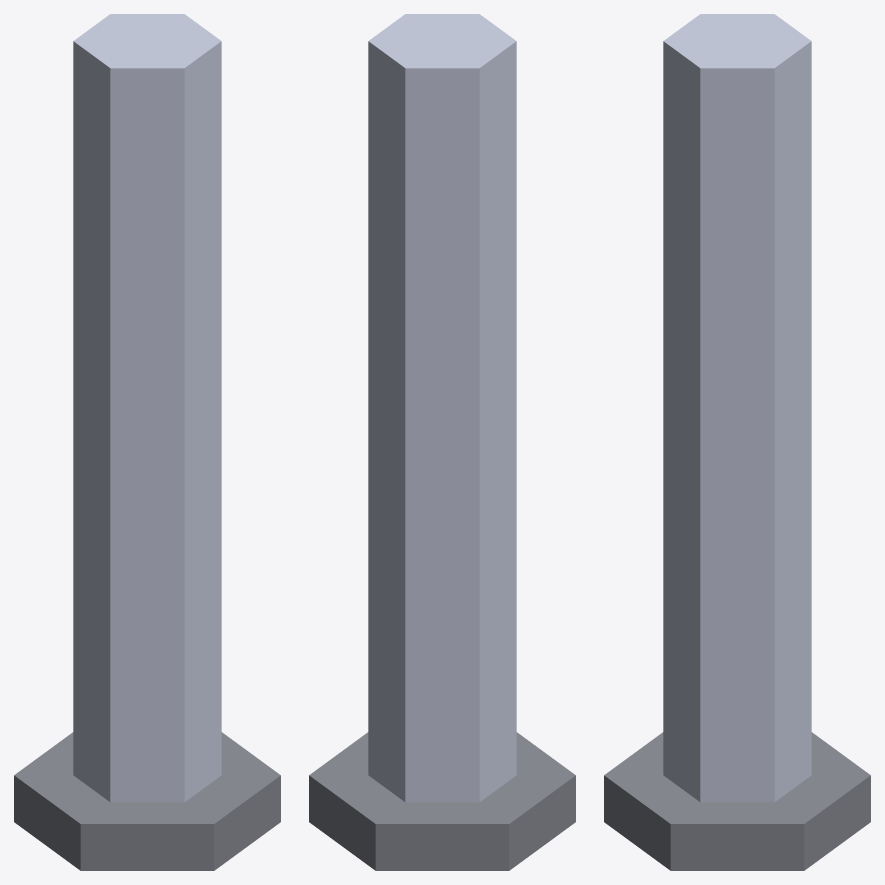
Rendered from spaceInterior_001.obj.
3 views of the same model, side by side, from view 1: azimuth 30°, elevation 25°; view 2: azimuth 150°, elevation 25°; view 3: azimuth 270°, elevation 25° (orthographic).
Visible parts, largest first — view 1: Mesh1 Group1 Model; view 2: Mesh1 Group1 Model; view 3: Mesh1 Group1 Model.
Part boxes in pixels (x1,y1,x2,y2): Mesh1 Group1 Model: (14,14,280,870); Mesh1 Group1 Model: (309,14,575,870); Mesh1 Group1 Model: (604,14,870,870).
Bounding box in the file's own units: 0.1341 × 0.5 × 0.1548.
